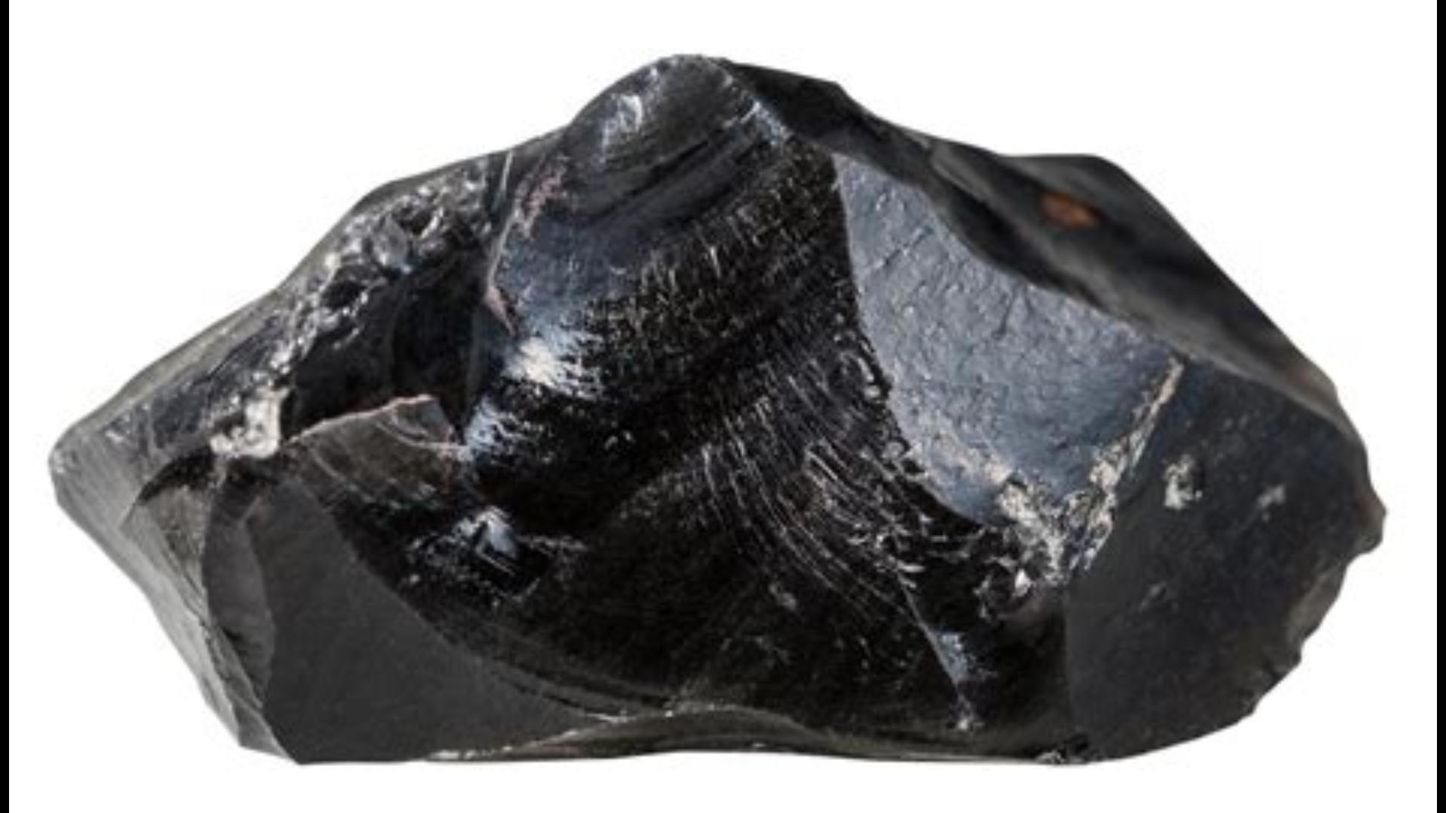rock: (51, 57, 1380, 756)
